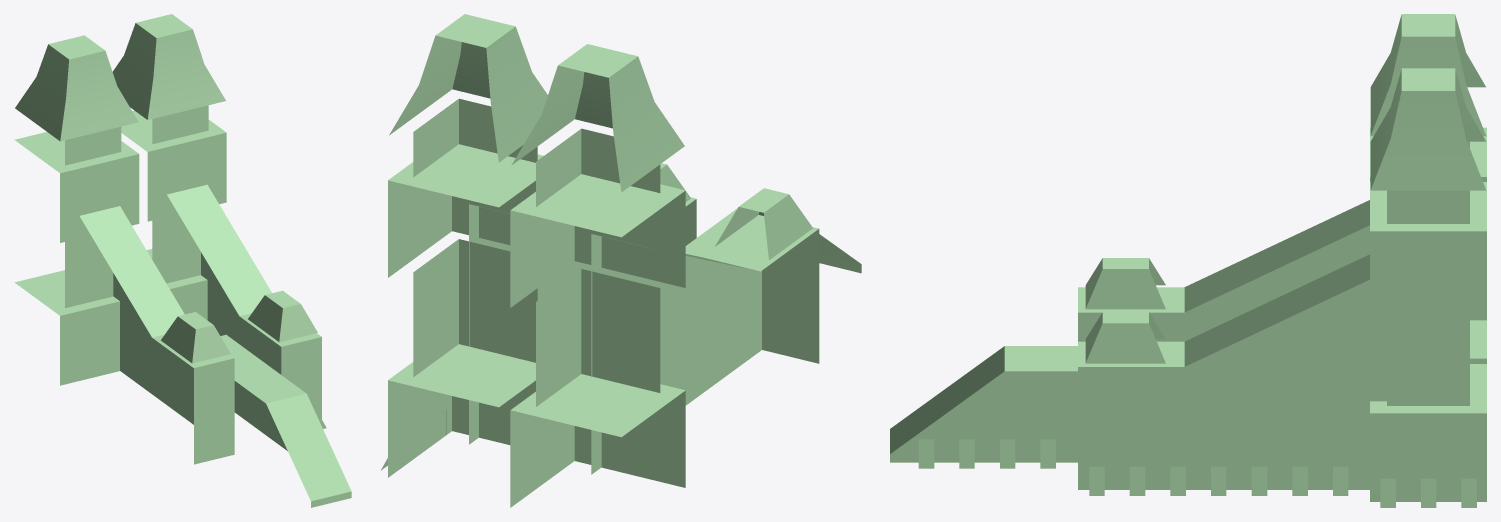
3 views of the same model, side by side, from view 1: azimuth 30°, elevation 25°; view 2: azimuth 150°, elevation 25°; view 3: azimuth 270°, elevation 25° (orthographic). The views are drawn at different scales.
Parts seen in each view (by area): view 1: Object32; view 2: Object32; view 3: Object32.
Boxes of the visible parts, <box> form: Object32: <box>14,14,351,507</box>; Object32: <box>381,14,861,507</box>; Object32: <box>890,14,1486,507</box>.
Bounding box in the file's own units: 335 × 567 × 771.
